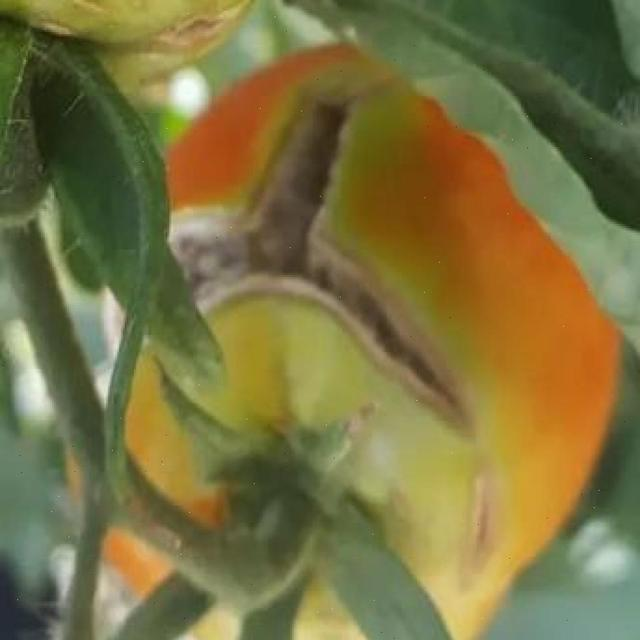Cracking Fruit: (52, 89, 319, 350)
